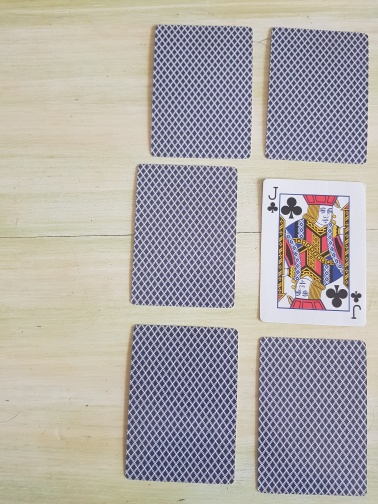jack: (258, 178, 367, 327)
